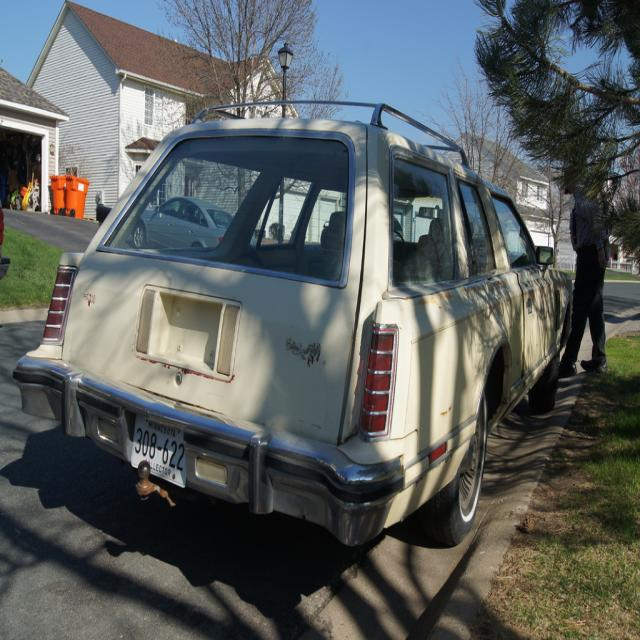car: (11, 100, 573, 548)
